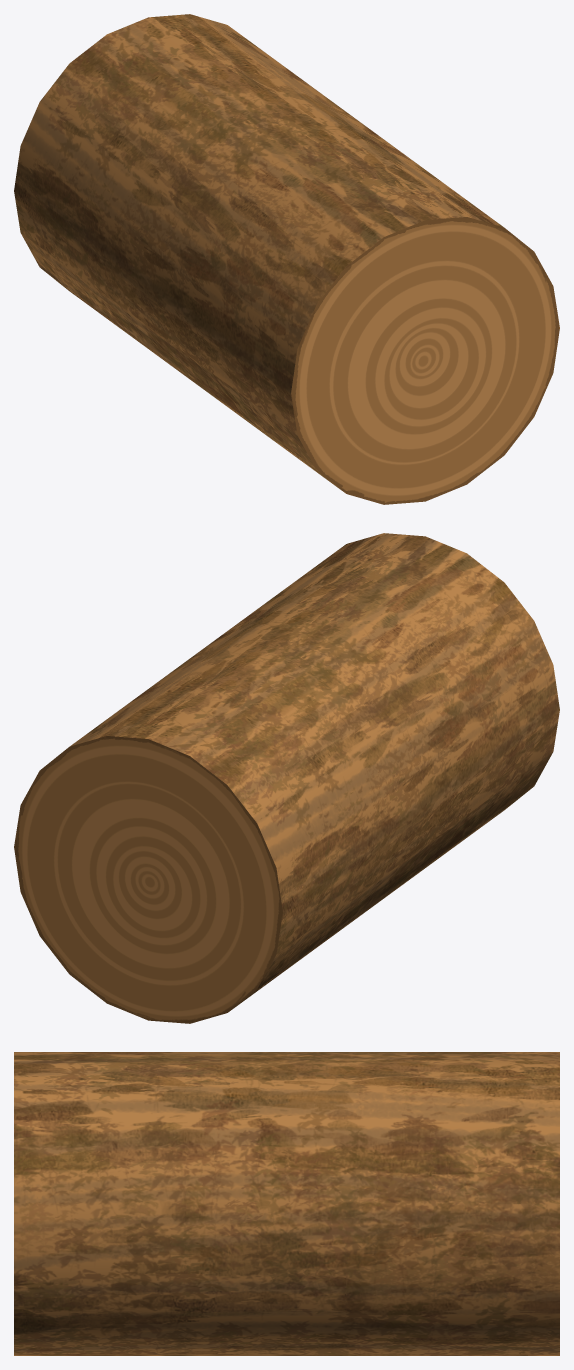
Rendered from start_tree2.fbx.
The picture shows the model from 3 angles, top to bottom: view 1: azimuth 30°, elevation 25°; view 2: azimuth 150°, elevation 25°; view 3: azimuth 270°, elevation 25°; orthographic projection.
Visible parts, largest first — view 1: start_tree; view 2: start_tree; view 3: start_tree.
Boxes of the visible parts, x1,y1,x2,y2 form: start_tree: (14, 14, 559, 504); start_tree: (14, 533, 559, 1023); start_tree: (14, 1052, 559, 1355).
Bounding box in the file's own units: 3244 × 3244 × 5786.
1 material, 1 textured.
